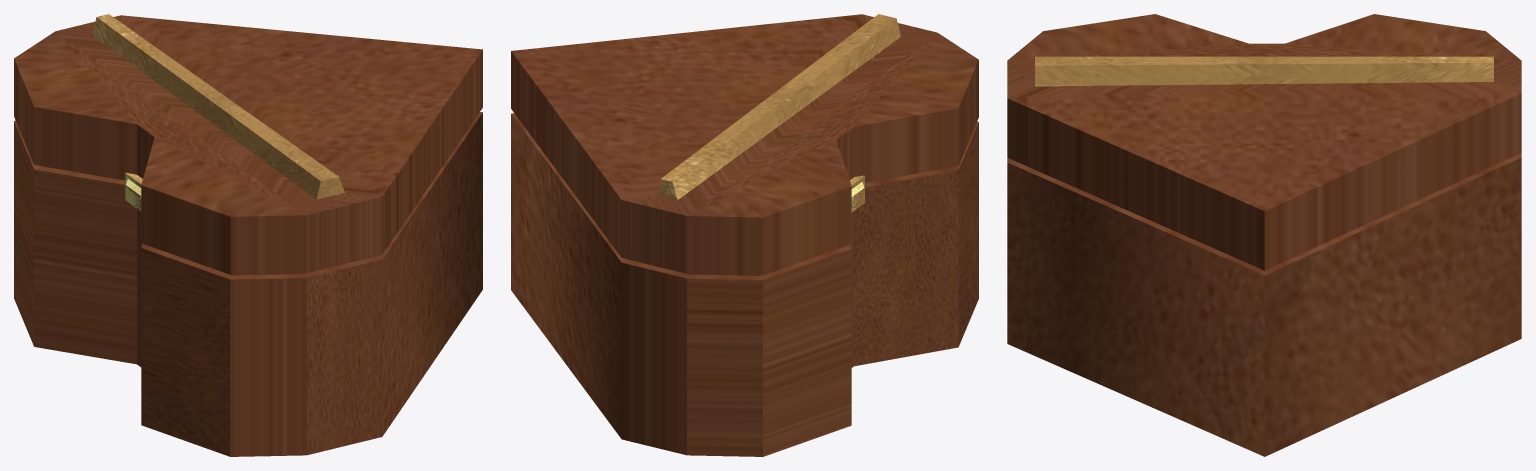
Rendered from livingroomBox1.FBX.
The picture shows the model from 3 angles, left to right: view 1: azimuth 30°, elevation 25°; view 2: azimuth 150°, elevation 25°; view 3: azimuth 270°, elevation 25°; orthographic projection. The views are drawn at different scales.
Parts seen in each view (by area): view 1: Box001, Object001, Object002, Box002; view 2: Box001, Object001, Object002; view 3: Box001, Object001, Object002.
Boxes of the visible parts, bbox=[...] form: Box001: bbox=[14, 112, 482, 456]; Object001: bbox=[14, 15, 482, 275]; Object002: bbox=[92, 14, 344, 199]; Box002: bbox=[125, 172, 142, 211]; Box001: bbox=[511, 113, 978, 456]; Object001: bbox=[511, 14, 978, 275]; Object002: bbox=[658, 14, 900, 200]; Box001: bbox=[1007, 153, 1521, 456]; Object001: bbox=[1007, 14, 1521, 270]; Object002: bbox=[1035, 56, 1493, 86].
Size of the model in its own units: 720 by 448 by 793.
Materials: 2 (2 with a texture image).
